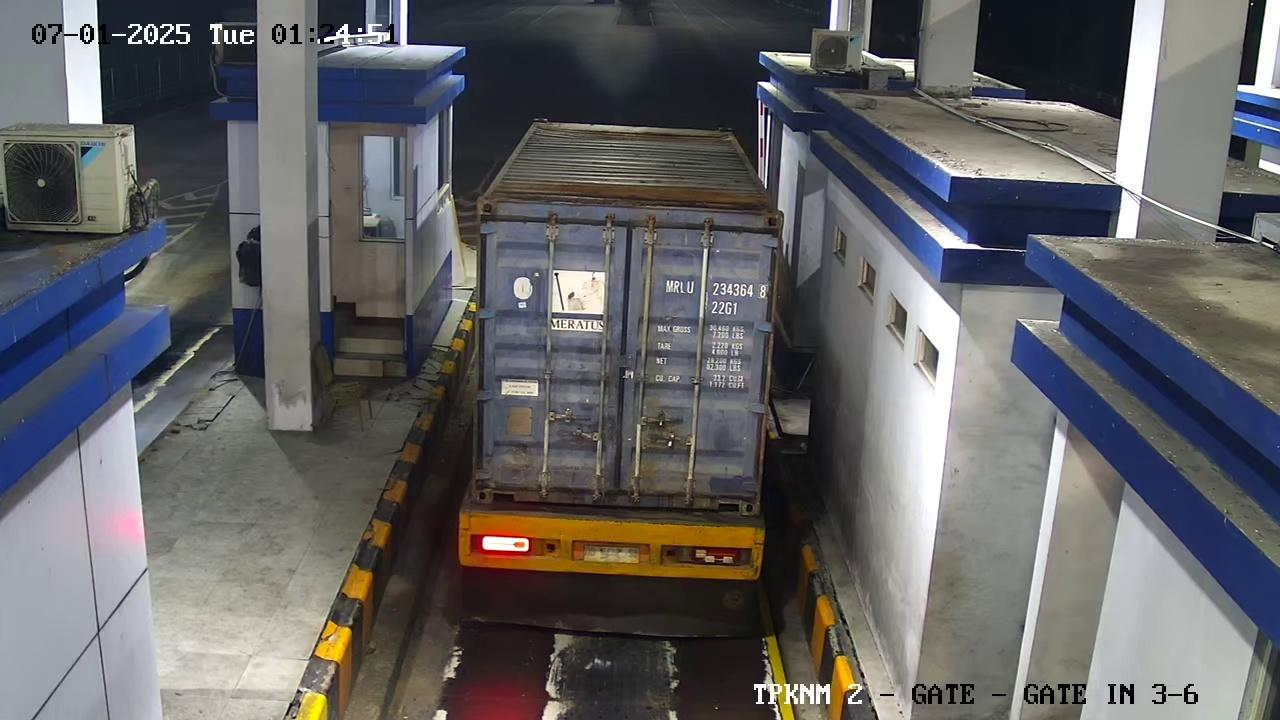Container_ID: (656, 275, 778, 301)
plate_number: (575, 533, 655, 572)
